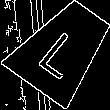L_NE: (33, 20, 92, 79)
